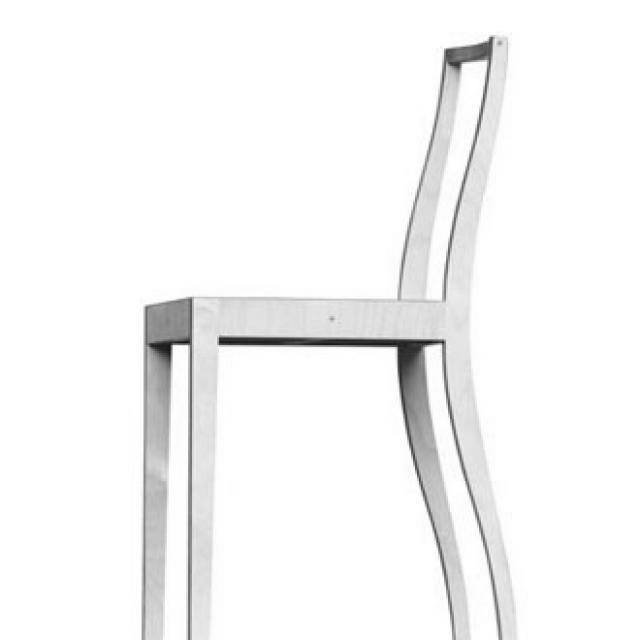chair: (142, 36, 520, 638)
